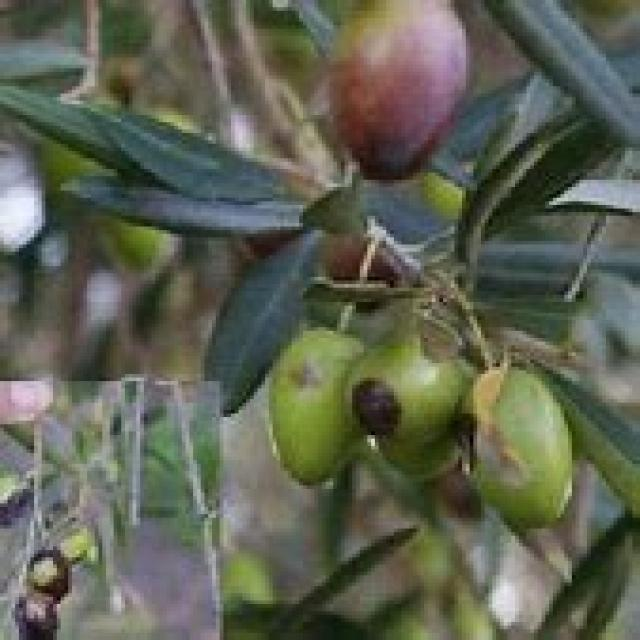Olive Fruit Fly: (459, 363, 570, 533), (348, 334, 462, 477), (269, 327, 360, 482)
